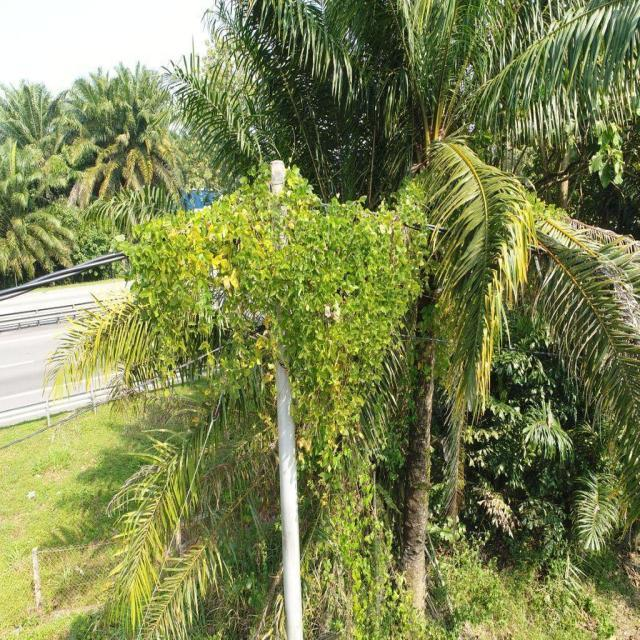critical vegetation: (124, 152, 436, 358)
